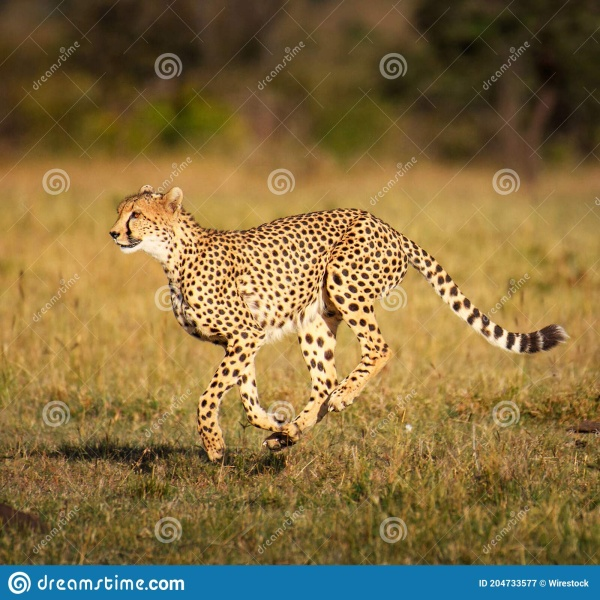Cheetah: (104, 177, 576, 465)
